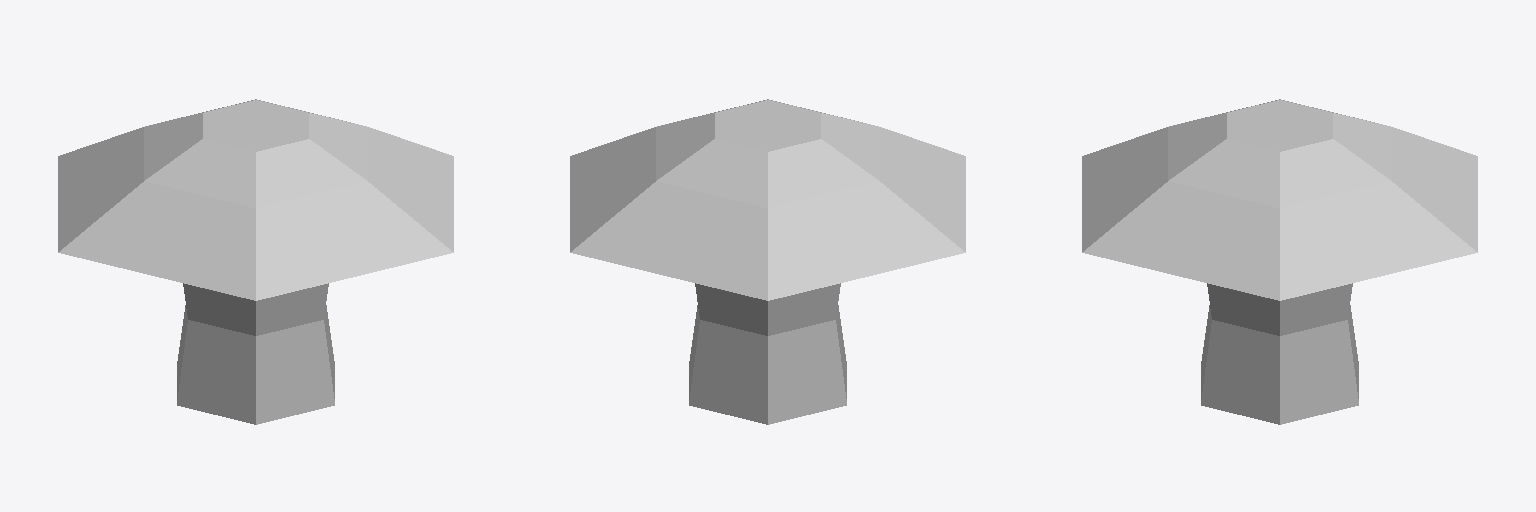
File: mushroom.obj
3 views of the same model, side by side, from view 1: azimuth 30°, elevation 25°; view 2: azimuth 150°, elevation 25°; view 3: azimuth 270°, elevation 25° (orthographic).
Parts seen in each view (by area): view 1: mushroom_geo; view 2: mushroom_geo; view 3: mushroom_geo.
Boxes of the visible parts, <box> form: mushroom_geo: <box>58,99,453,424</box>; mushroom_geo: <box>570,99,965,424</box>; mushroom_geo: <box>1082,99,1477,424</box>.
Bounding box in the file's own units: 4.99 × 3.14 × 4.32.